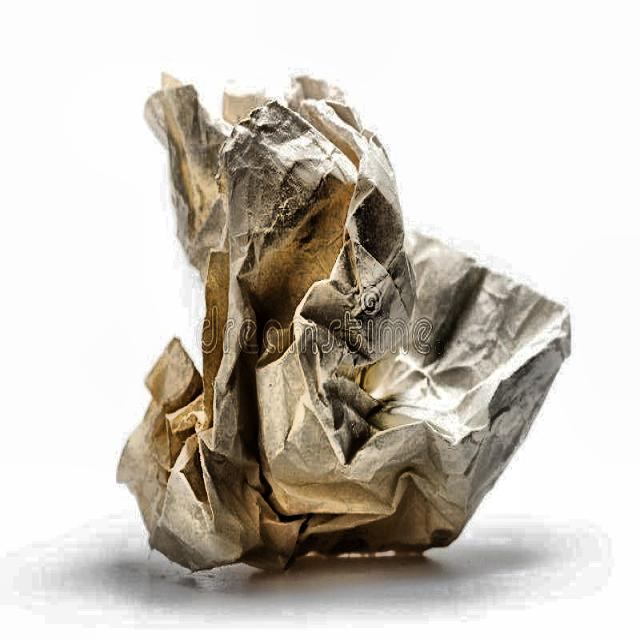Paper: (114, 71, 574, 579)
